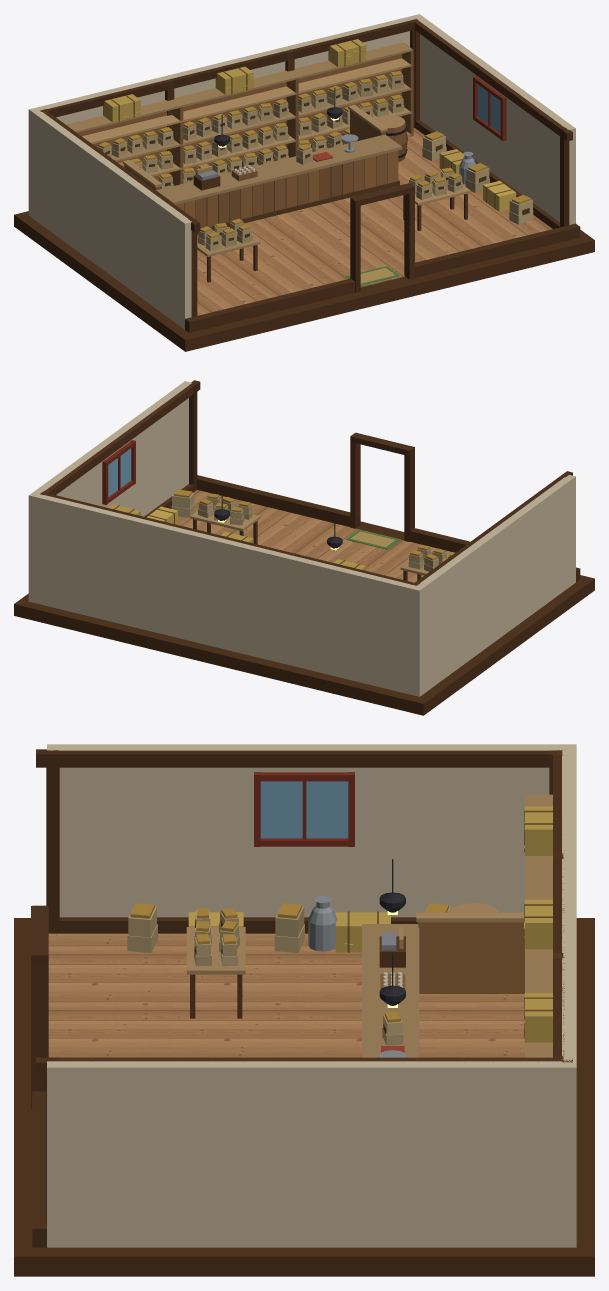
File: tienda_interior_animales.glb
3 views of the same model, one above another, from view 1: azimuth 30°, elevation 25°; view 2: azimuth 150°, elevation 25°; view 3: azimuth 270°, elevation 25° (orthographic). The views are drawn at different scales.
Parts seen in each view (by area): view 1: SM_TiendaInterior_animales; view 2: SM_TiendaInterior_animales; view 3: SM_TiendaInterior_animales.
Part boxes in pixels (box(x1,y1,x2,y2)): SM_TiendaInterior_animales: box(14, 14, 594, 351); SM_TiendaInterior_animales: box(14, 380, 594, 715); SM_TiendaInterior_animales: box(14, 744, 594, 1276).
Size of the model in its own units: 10.9 by 3.02 by 7.9.
4 materials, 1 textured.
